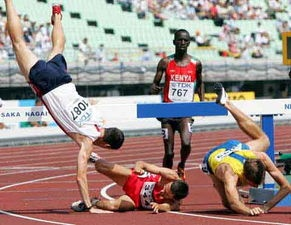falling: (0, 7, 133, 198)
